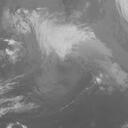cyclone: (40, 24, 102, 75)
